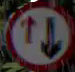Two way: (9, 0, 74, 71)
